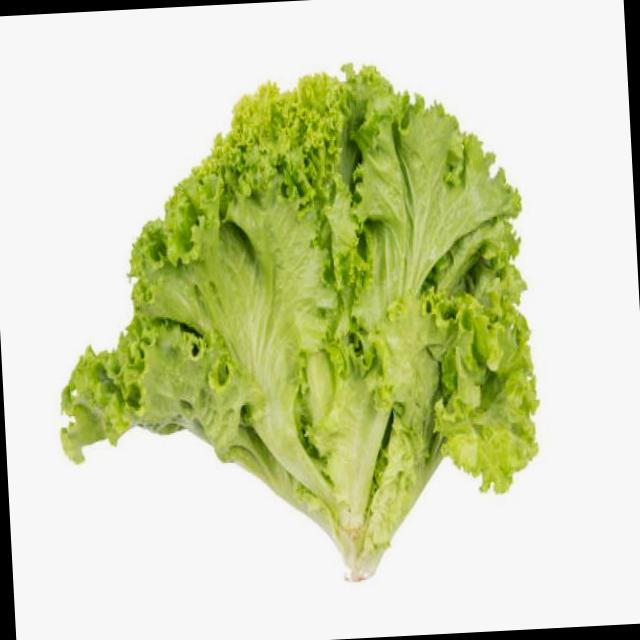Lettuce-Ready-to-Harvest: (58, 67, 541, 586)
